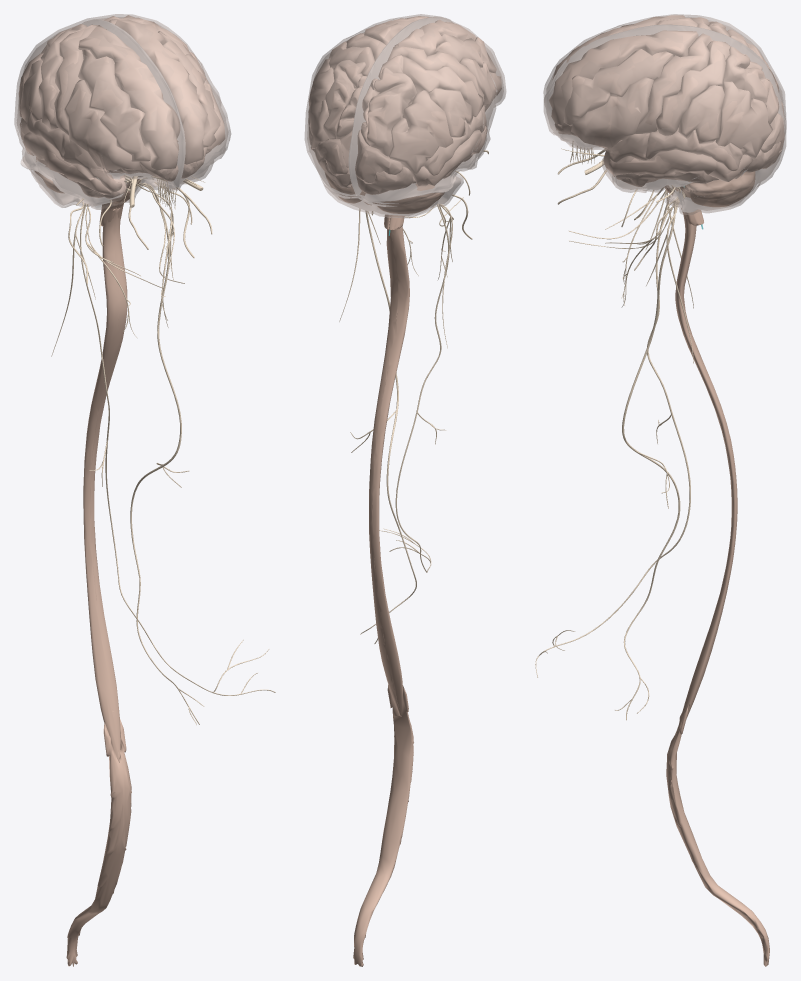
The model's file is neuraxia-bp3d-cns-mobile.meshopt.glb.
3 views of the same model, side by side, from view 1: azimuth 30°, elevation 25°; view 2: azimuth 150°, elevation 25°; view 3: azimuth 270°, elevation 25° (orthographic). The views are drawn at different scales.
Parts seen in each view (by area): view 1: Cerebral dura mater, Spinal cord, Right superior frontal gyrus, Cauda equina, Left superior frontal gyrus, Right middle frontal gyrus, Right inferior frontal gyrus, Right superior temporal gyrus, Right precentral gyrus, Falx cerebri, Right middle temporal gyrus, Right postcentral gyrus (+4 smaller); view 2: Cerebral dura mater, Spinal cord, Cauda equina, Right angular gyrus, Right superior parietal lobule, Right postcentral gyrus, Left superior parietal lobule, Falx cerebri, Right superior frontal gyrus, Left angular gyrus, Cerebellum, Right precentral gyrus (+15 smaller); view 3: Cerebral dura mater, Spinal cord, Left superior frontal gyrus, Left middle frontal gyrus, Left inferior frontal gyrus, Cauda equina, Left angular gyrus, Left superior temporal gyrus, Left middle temporal gyrus, Left postcentral gyrus, Left precentral gyrus, Falx cerebri (+7 smaller).
Boxes of the visible parts, <box> form: Cerebral dura mater: <box>14,14,231,209</box>; Spinal cord: <box>83,208,127,761</box>; Right superior frontal gyrus: <box>78,25,178,170</box>; Cauda equina: <box>66,719,131,966</box>; Left superior frontal gyrus: <box>115,19,207,164</box>; Right middle frontal gyrus: <box>78,49,150,161</box>; Right inferior frontal gyrus: <box>64,80,140,170</box>; Right superior temporal gyrus: <box>20,112,122,192</box>; Right precentral gyrus: <box>54,24,97,135</box>; Falx cerebri: <box>84,19,185,187</box>; Right middle temporal gyrus: <box>23,132,111,194</box>; Right postcentral gyrus: <box>38,24,87,129</box>; Cerebral dura mater: <box>304,14,506,218</box>; Spinal cord: <box>369,225,409,716</box>; Cauda equina: <box>353,684,413,966</box>; Right angular gyrus: <box>389,90,453,173</box>; Right superior parietal lobule: <box>367,67,416,156</box>; Right postcentral gyrus: <box>378,54,483,116</box>; Left superior parietal lobule: <box>323,60,365,139</box>; Falx cerebri: <box>349,17,452,195</box>; Right superior frontal gyrus: <box>394,19,476,56</box>; Left angular gyrus: <box>308,67,334,148</box>; Cerebellum: <box>325,172,444,213</box>; Right precentral gyrus: <box>387,46,484,104</box>; Cerebral dura mater: <box>543,14,786,215</box>; Spinal cord: <box>675,214,737,731</box>; Left superior frontal gyrus: <box>549,30,698,124</box>; Left middle frontal gyrus: <box>563,49,673,125</box>; Left inferior frontal gyrus: <box>571,77,653,147</box>; Cauda equina: <box>666,703,769,966</box>; Left angular gyrus: <box>715,81,772,158</box>; Left superior temporal gyrus: <box>603,128,742,171</box>; Left middle temporal gyrus: <box>607,149,752,181</box>; Left postcentral gyrus: <box>656,40,730,135</box>; Left precentral gyrus: <box>635,33,712,133</box>; Falx cerebri: <box>549,25,785,130</box>.
Bounding box in the file's own units: 0.1522 × 0.794 × 0.1915.
